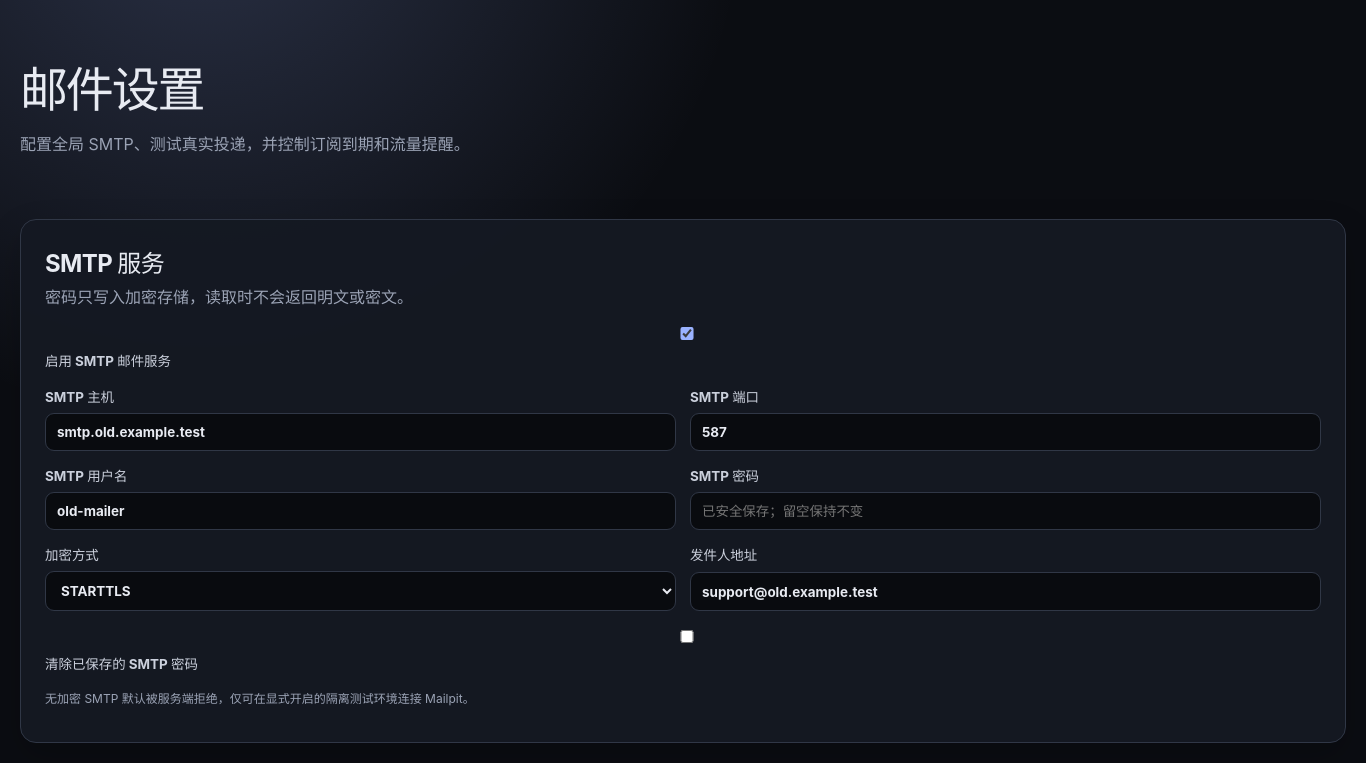
MailSettingsPage › supports explicit password clearing and preserves the draft after a revision conflict
Replace the text in the field labelled "SMTP 主机" with "draft.example.test": (360, 432) left=45, top=413, right=676, bottom=451
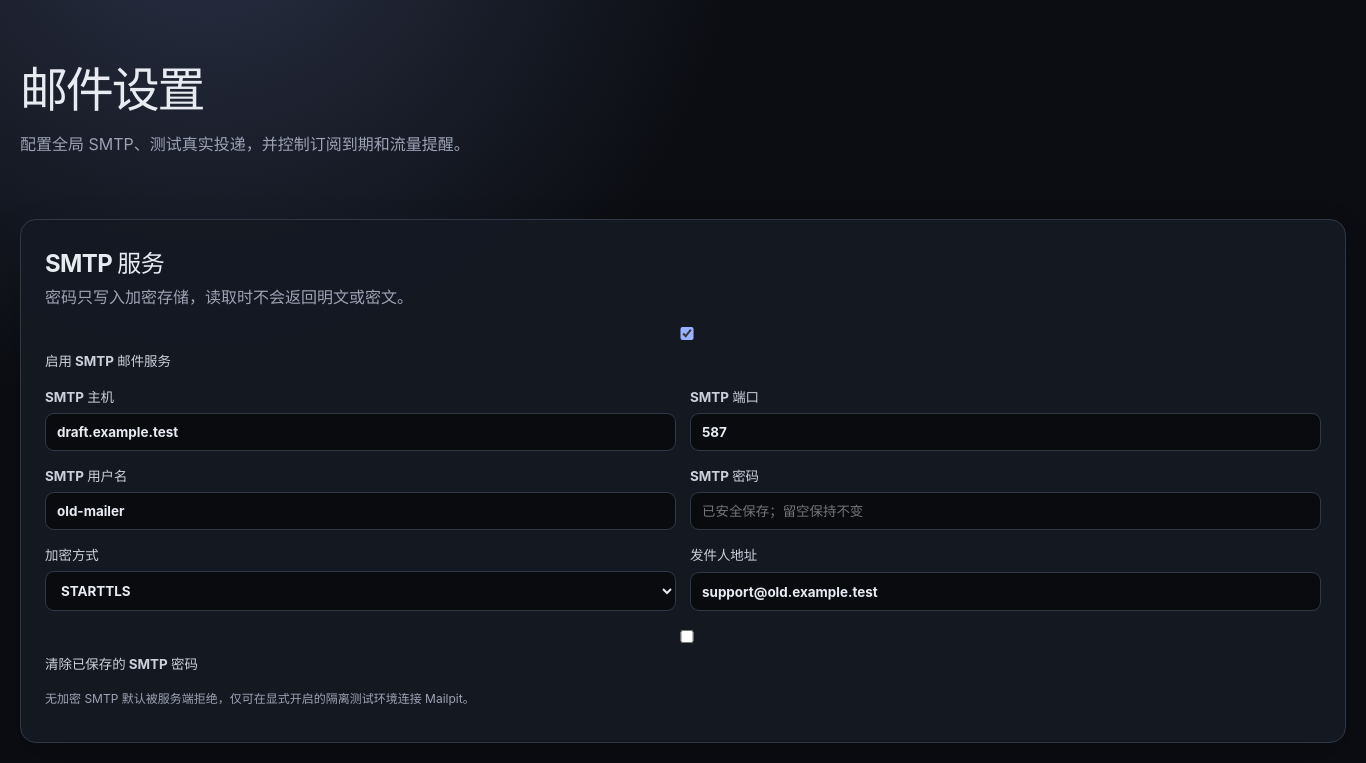
Click the switch labelled "清除已保存的 SMTP 密码": (687, 636) left=49, top=630, right=1325, bottom=643
(page scrolled)
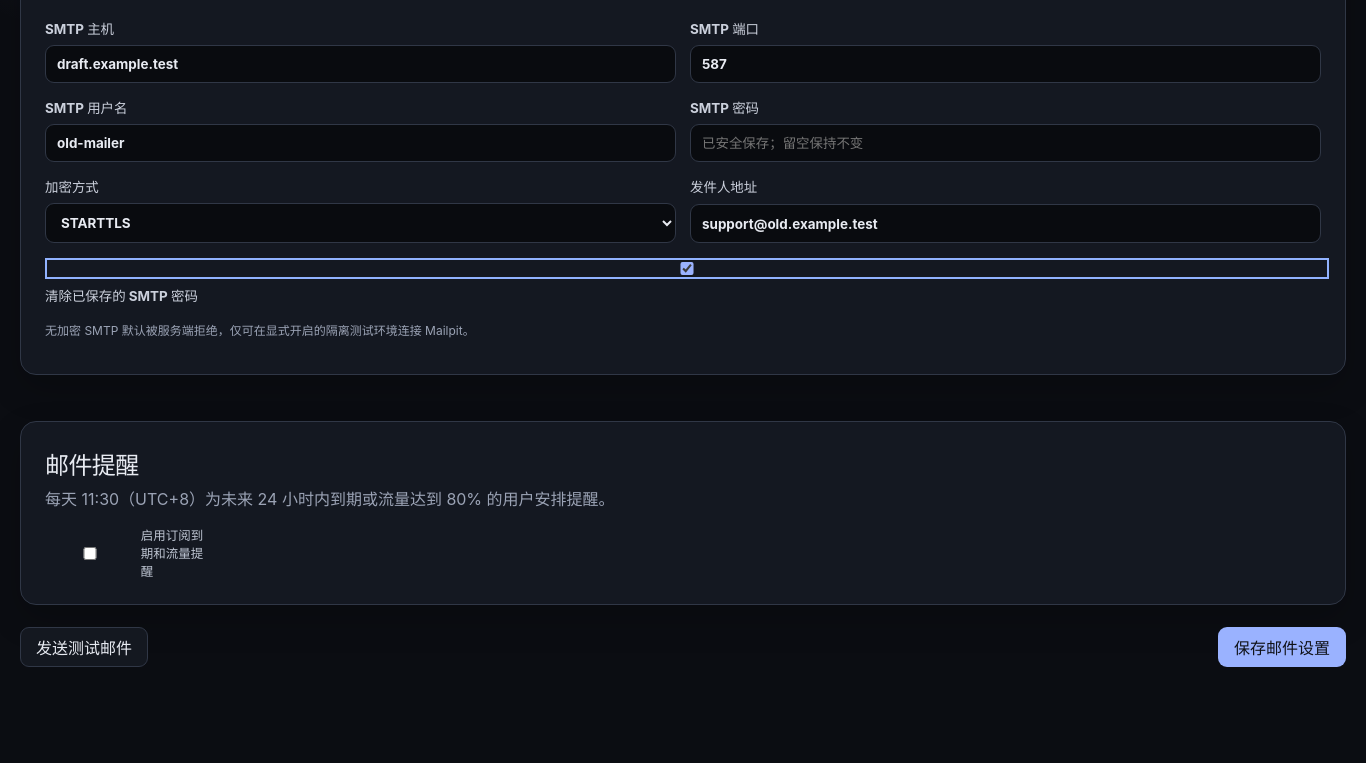
Click the button "保存邮件设置": (1282, 647) left=1218, top=627, right=1346, bottom=667
(page scrolled)
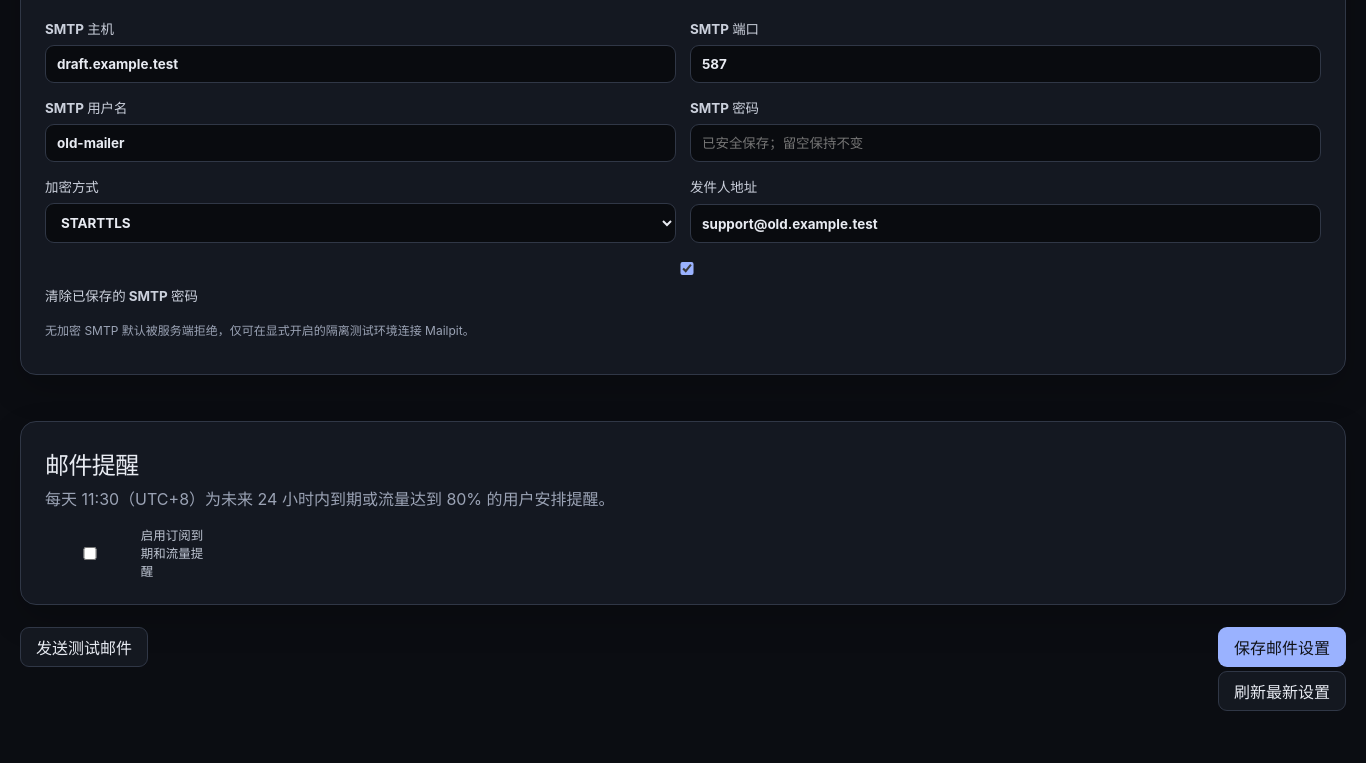
Now the button "刷新最新设置" is shown, box left=1218, top=671, right=1346, bottom=711
